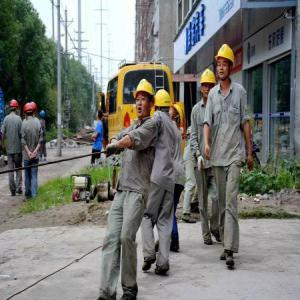blue: (41, 110, 47, 120)
none: (96, 109, 103, 122)
red: (10, 99, 20, 116), (24, 103, 34, 120)
yellow: (215, 42, 236, 84), (134, 80, 154, 118), (200, 67, 217, 101), (155, 89, 173, 117), (171, 102, 185, 130)
